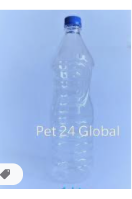Bottle: (52, 16, 94, 188)
